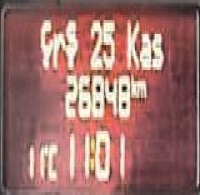0: (93, 125, 108, 181)
1: (117, 128, 124, 178), (67, 128, 73, 178), (82, 128, 88, 178), (37, 139, 43, 178), (27, 142, 33, 175)
2: (63, 70, 77, 117), (88, 17, 101, 67)
4: (103, 72, 116, 114)
5: (101, 17, 113, 67)
6: (77, 70, 90, 117)
8: (117, 72, 130, 117), (89, 72, 102, 117)
X: (63, 17, 77, 67), (125, 17, 139, 67), (38, 14, 51, 67), (150, 28, 164, 67), (51, 28, 63, 67), (138, 31, 151, 67), (46, 139, 58, 178), (136, 75, 146, 97), (89, 136, 95, 170), (130, 70, 136, 98)
